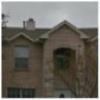chimneys: (26, 18, 36, 32)
